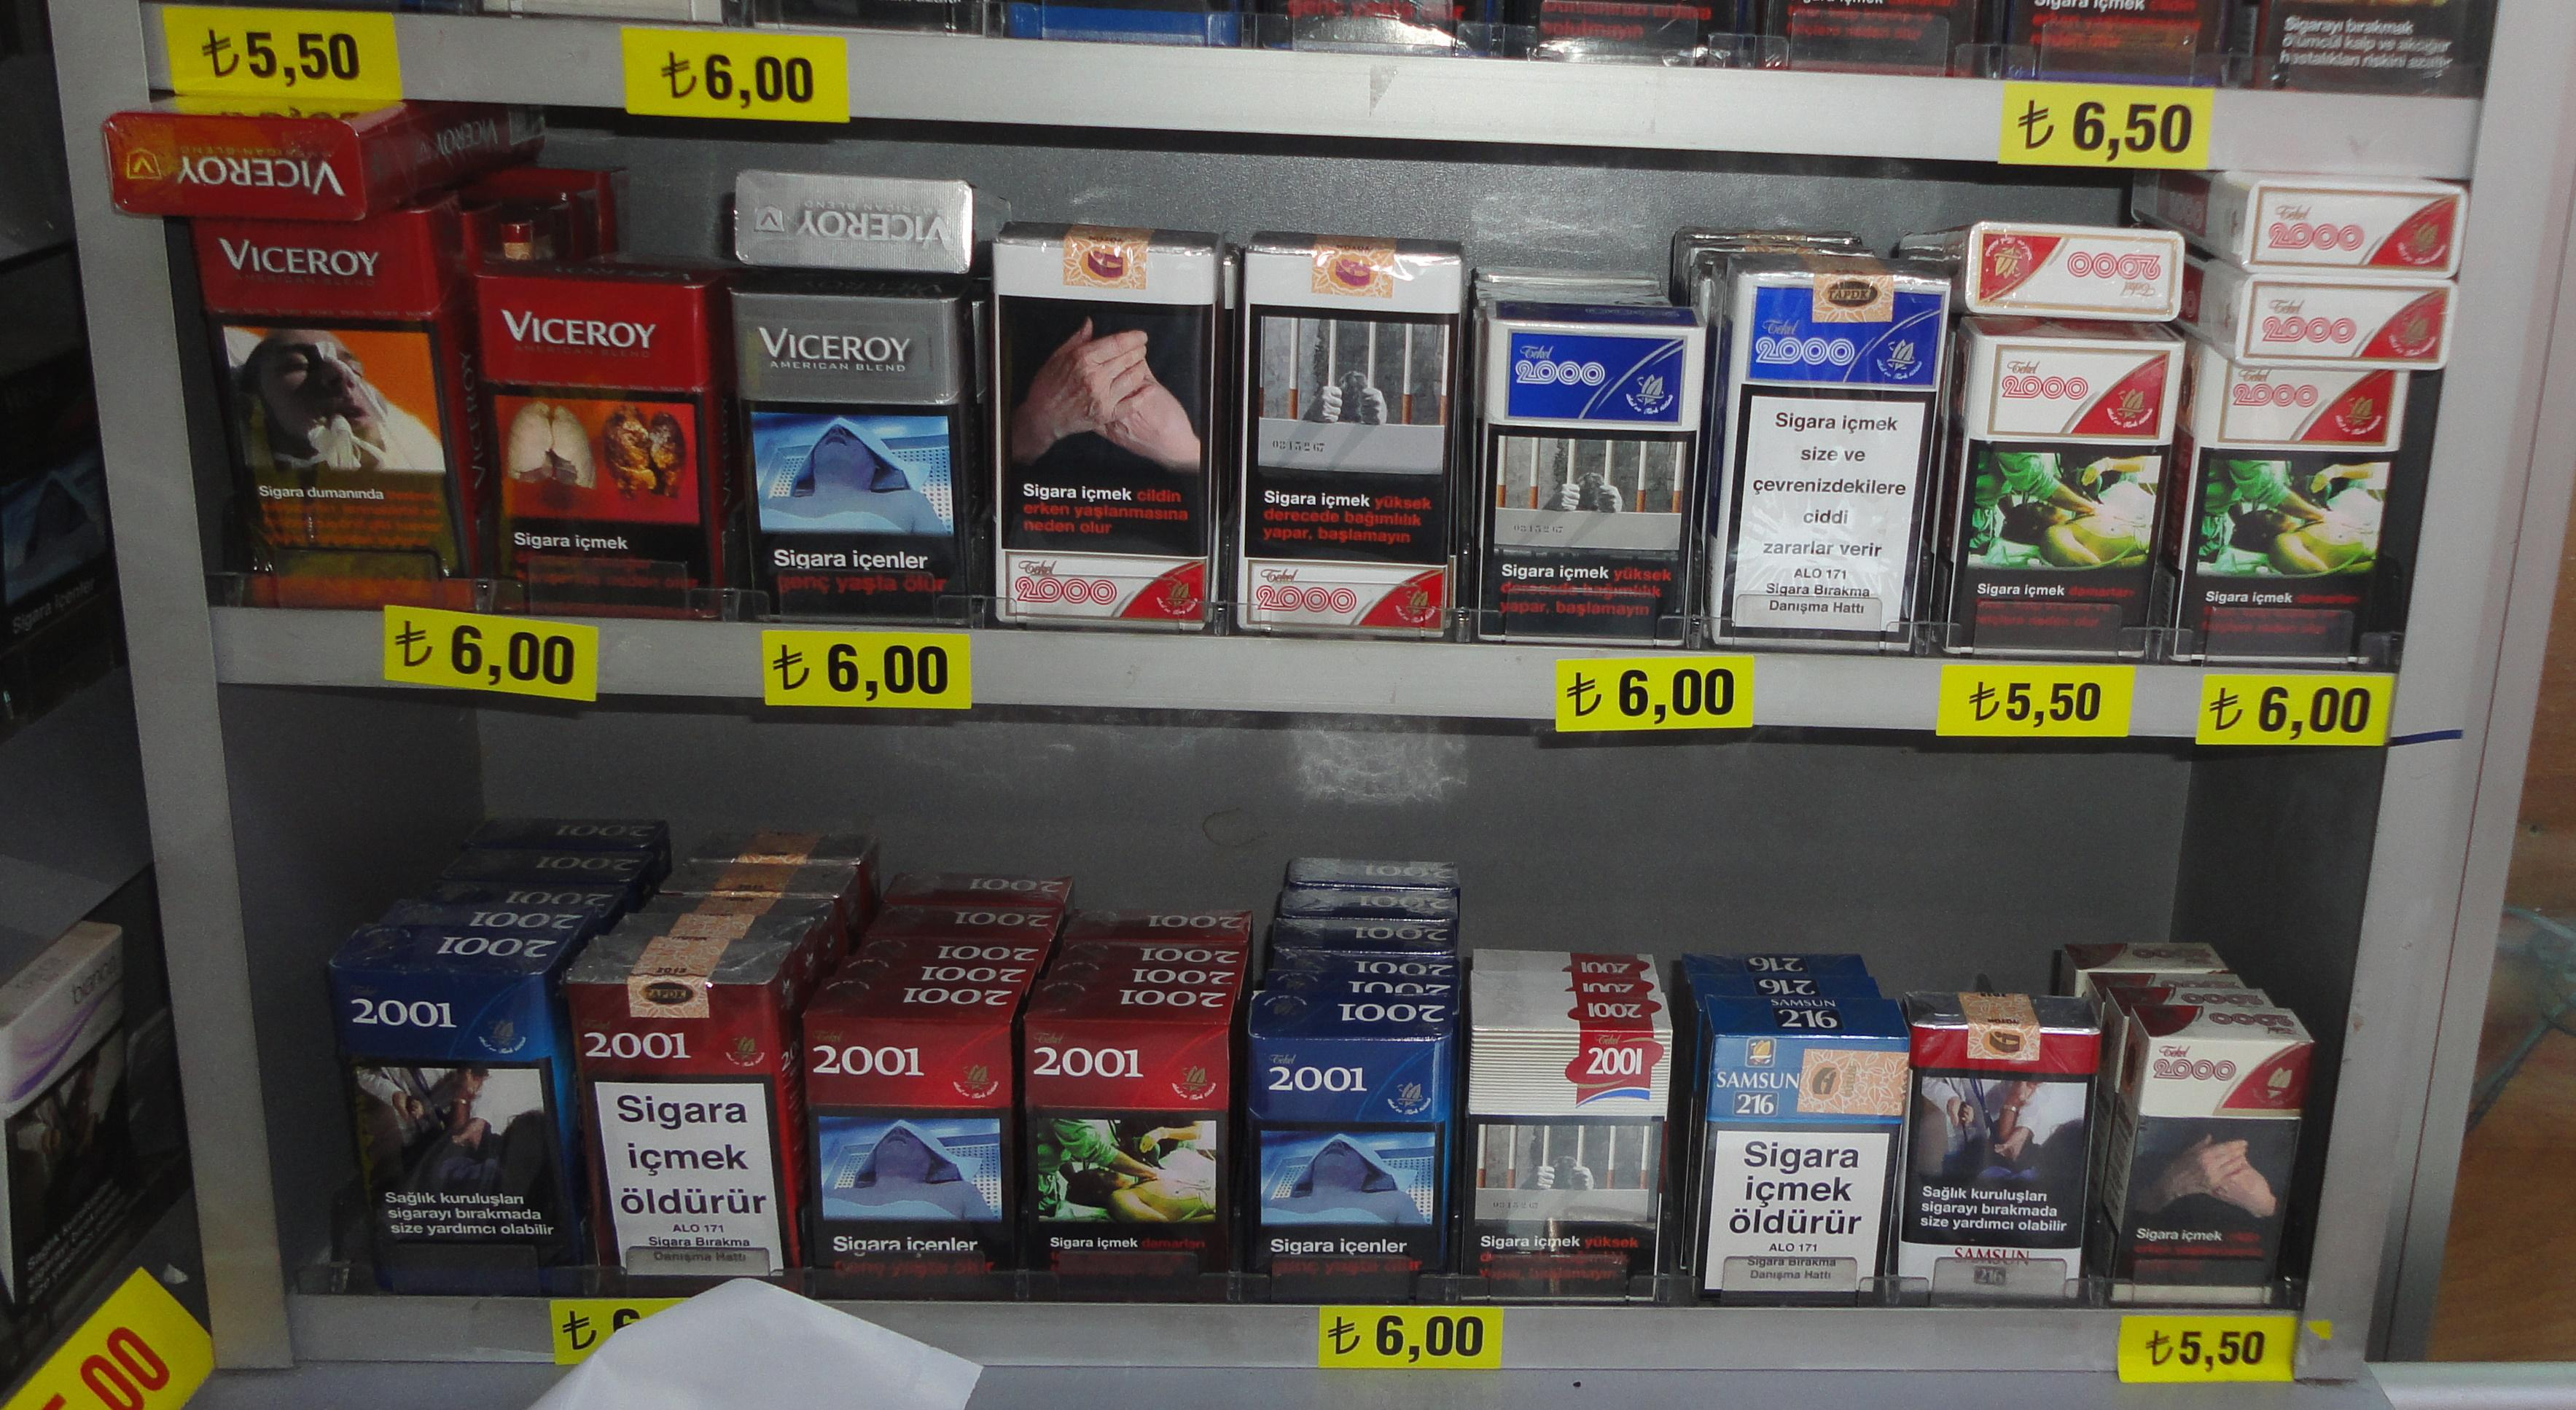product: (191, 208, 438, 618), (1237, 254, 1459, 642), (995, 243, 1216, 630), (467, 273, 712, 608), (730, 283, 962, 622), (1739, 278, 1942, 636), (330, 971, 554, 1288), (1487, 318, 1704, 644), (561, 983, 790, 1292), (1968, 339, 2182, 651), (2187, 359, 2406, 660), (806, 1012, 1016, 1297), (1021, 1018, 1228, 1297), (1706, 1033, 1902, 1306), (1245, 1035, 1447, 1297), (1914, 1021, 2097, 1306), (1473, 1030, 1671, 1292), (2130, 1033, 2314, 1309)
